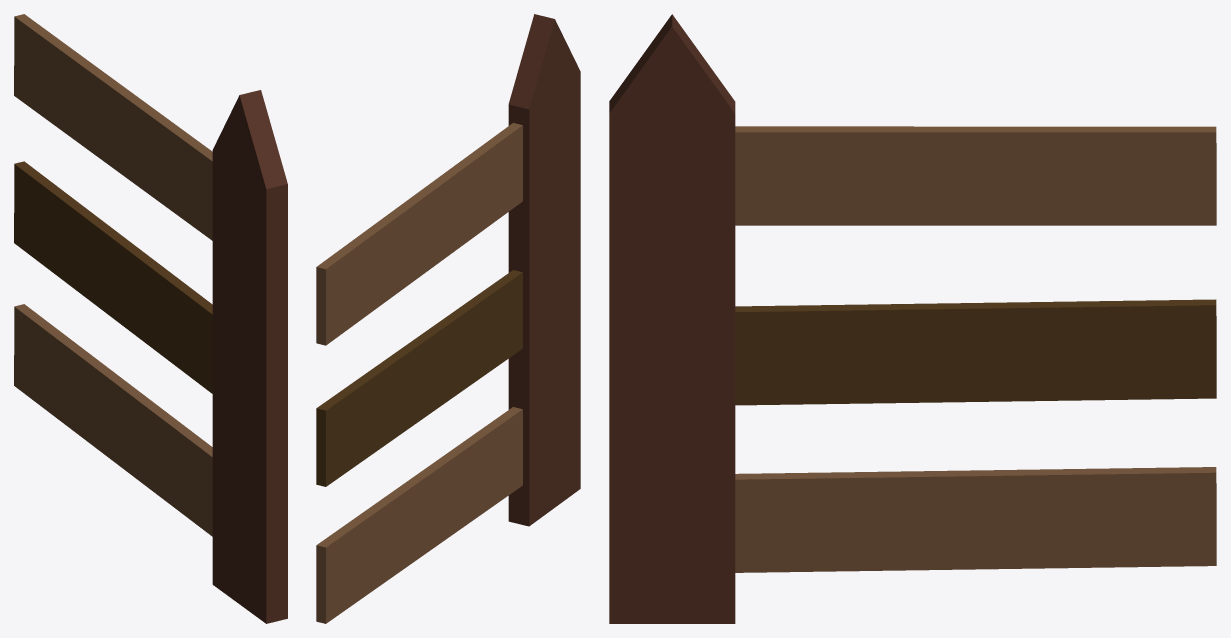
File: FencePicketSmall_01.glb
3 renders of one model, left to right at view 1: azimuth 30°, elevation 25°; view 2: azimuth 150°, elevation 25°; view 3: azimuth 270°, elevation 25°, orthographic. The views are drawn at different scales.
Visible parts, largest first — view 1: FencePicketSmall_01; view 2: FencePicketSmall_01; view 3: FencePicketSmall_01.
Boxes of the visible parts, box(x1,y1,x2,y2) form: FencePicketSmall_01: box(14, 14, 287, 623); FencePicketSmall_01: box(316, 14, 580, 623); FencePicketSmall_01: box(609, 14, 1216, 623).
Size of what is drawn, in the model's own units: 0.0534 by 1.21 by 1.11.
Materials: 1 (1 with a texture image).
